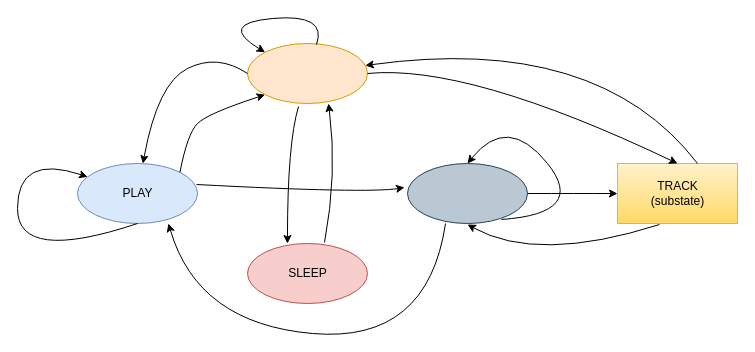
Some shapes in this 755 by 352 pixel diagram are drawn without their labels. Here are the shapes that lost their labels. From the top down, the centre of each, then its label:
At point 307,73: "NORMAL".
At point 467,193: "FIND".
